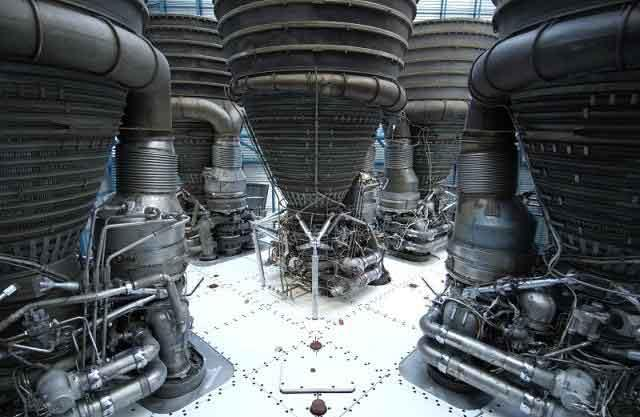thruster: (0, 0, 159, 280), (206, 0, 424, 204), (489, 0, 640, 280), (389, 16, 512, 187), (142, 12, 232, 183)
